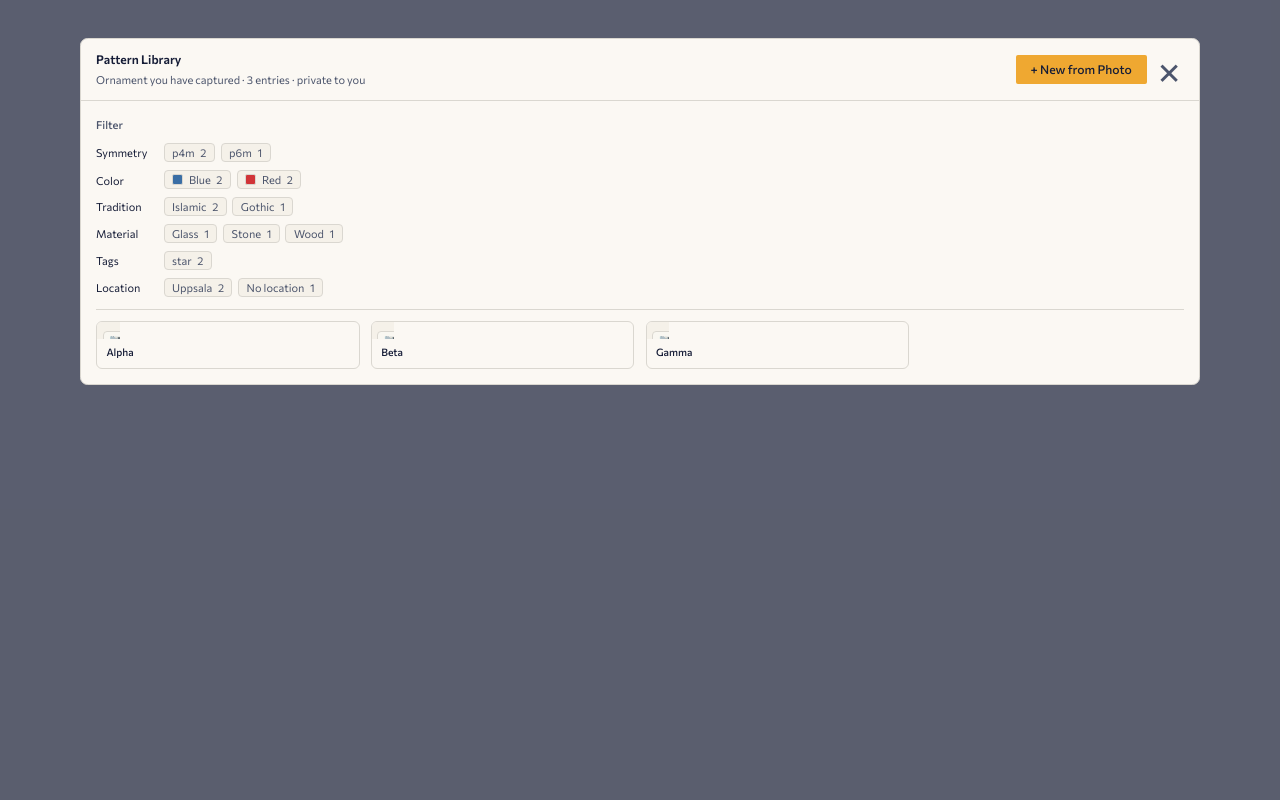
Test: facet rail — single + combined filtering › OR within a facet (p4m OR p6m → all three)
Click the button with test id "facet-chip-symmetry-p4m". click: (189, 153)
box: [164,143,215,162]
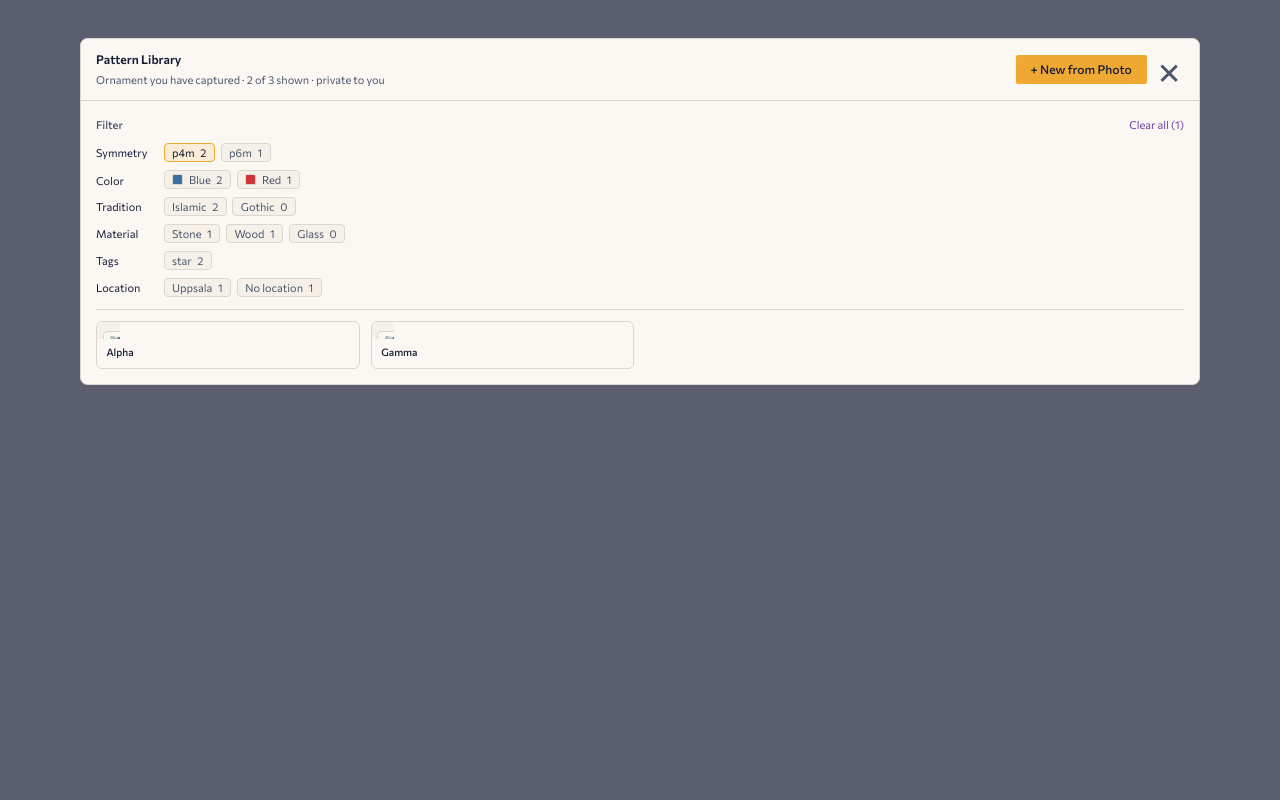
Click the button with test id "facet-chip-symmetry-p6m". click: (246, 153)
box: [221,143,271,162]
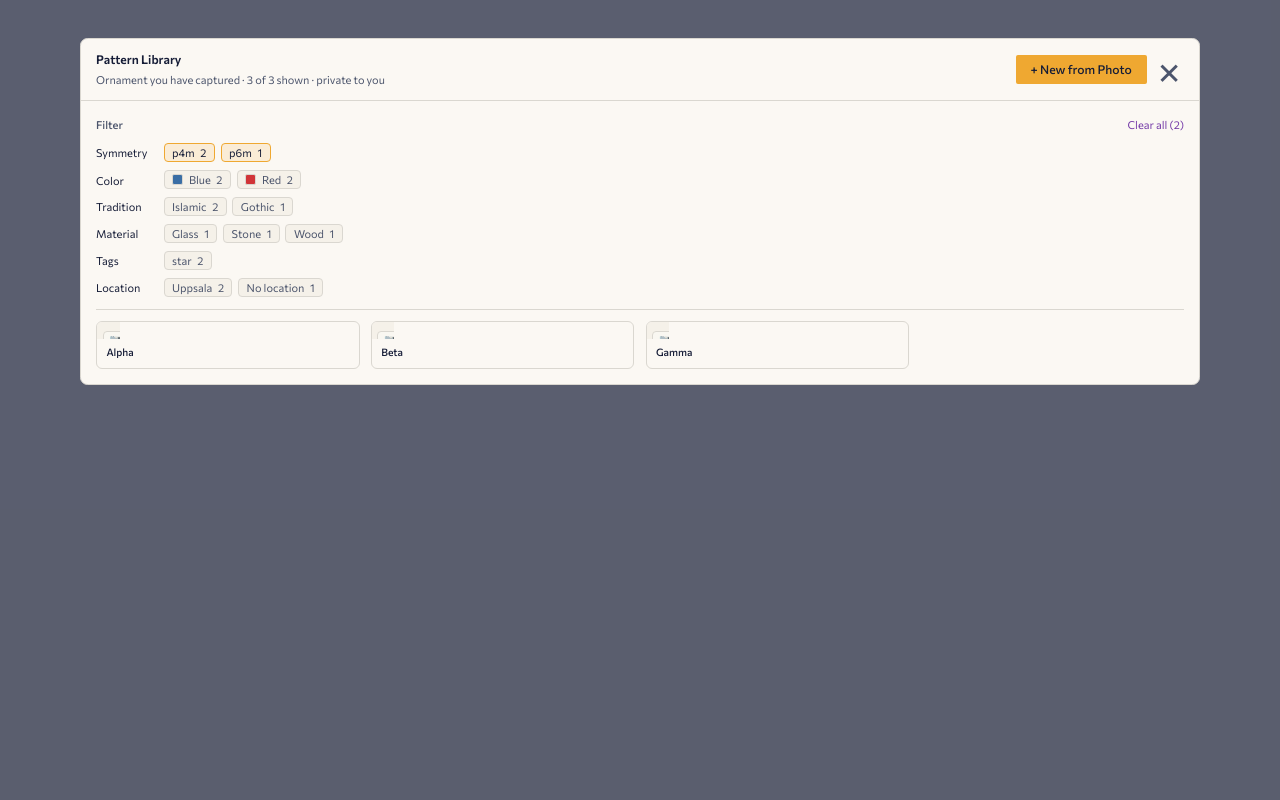
Now the number of buttons with test id "library-card" is 3, box [96,321,360,369]; [371,321,634,369]; [646,321,909,369]
